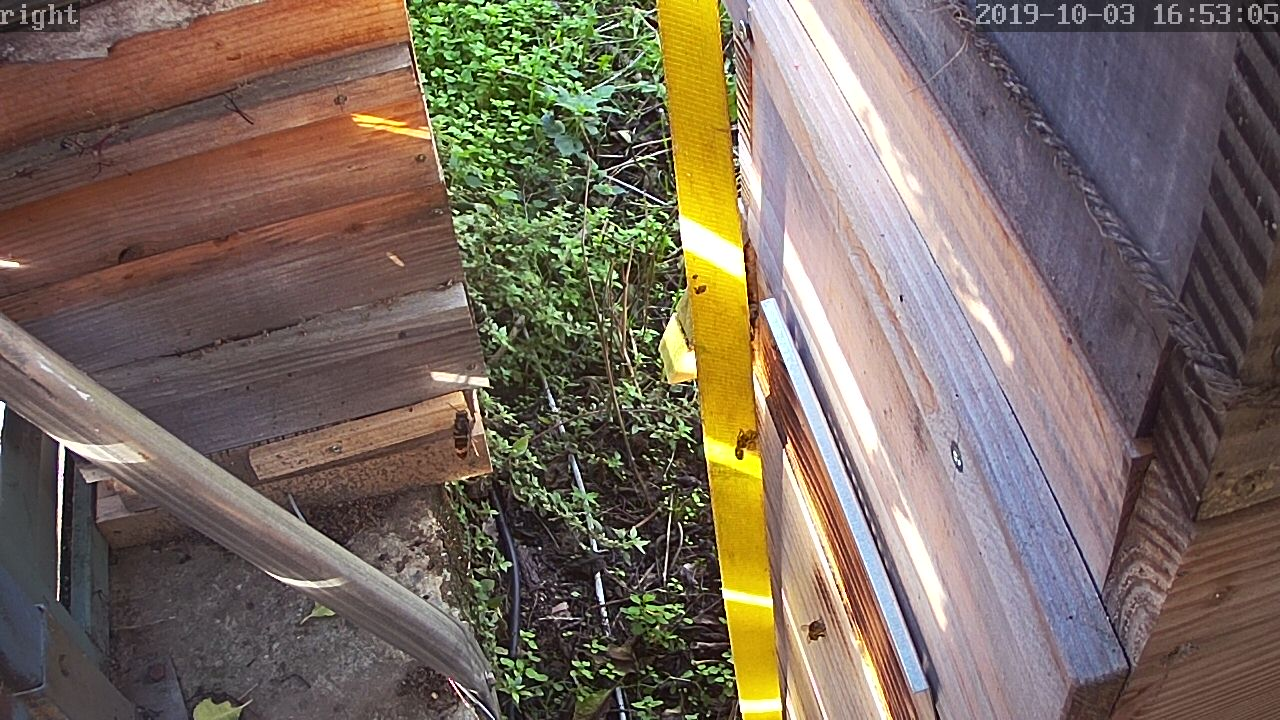bee: (798, 613, 832, 649), (730, 426, 752, 465)
hornet: (444, 402, 479, 464)
